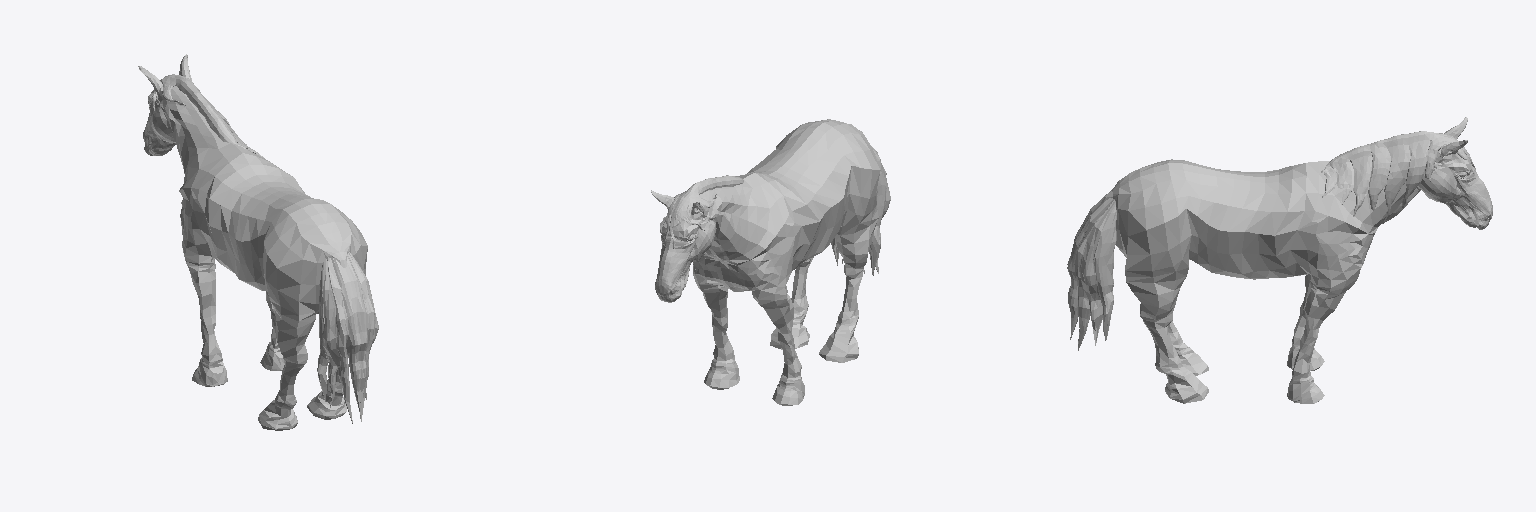
Rendered from horse.obj.
3 views of the same model, side by side, from view 1: azimuth 30°, elevation 25°; view 2: azimuth 150°, elevation 25°; view 3: azimuth 270°, elevation 25° (orthographic).
Parts seen in each view (by area): view 1: Plane, BezierCurve.005_Mesh.005, BezierCurve_Mesh; view 2: Plane, BezierCurve_Mesh, BezierCurve.005_Mesh.005; view 3: Plane, BezierCurve_Mesh, BezierCurve.005_Mesh.005.
Boxes of the visible parts, box(x1,y1,x2,y2) form: Plane: box(138, 54, 367, 430); BezierCurve.005_Mesh.005: box(317, 252, 378, 423); BezierCurve_Mesh: box(152, 74, 263, 157); Plane: box(651, 119, 880, 405); BezierCurve_Mesh: box(665, 175, 743, 248); BezierCurve.005_Mesh.005: box(831, 147, 890, 275); Plane: box(1101, 117, 1492, 403); BezierCurve_Mesh: box(1321, 131, 1475, 223); BezierCurve.005_Mesh.005: box(1067, 196, 1116, 350).
Size of the model in its own units: 3.88 by 9.59 by 14.47.